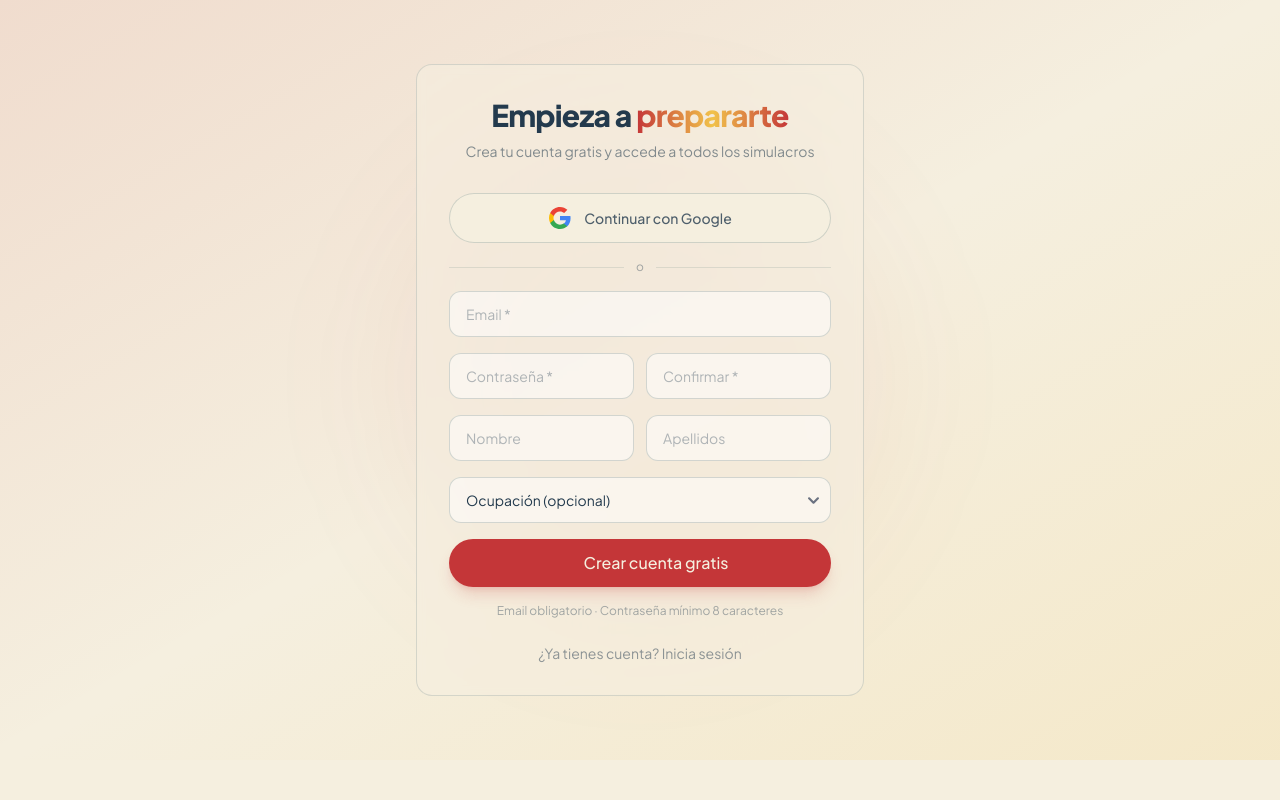
it: Register component › shows error when password is empty
The width and height of the screenshot is (1280, 800).
Type "user@example.com" into the field with placeholder "Email *" at coordinates (640, 314), box [449,291,831,337]
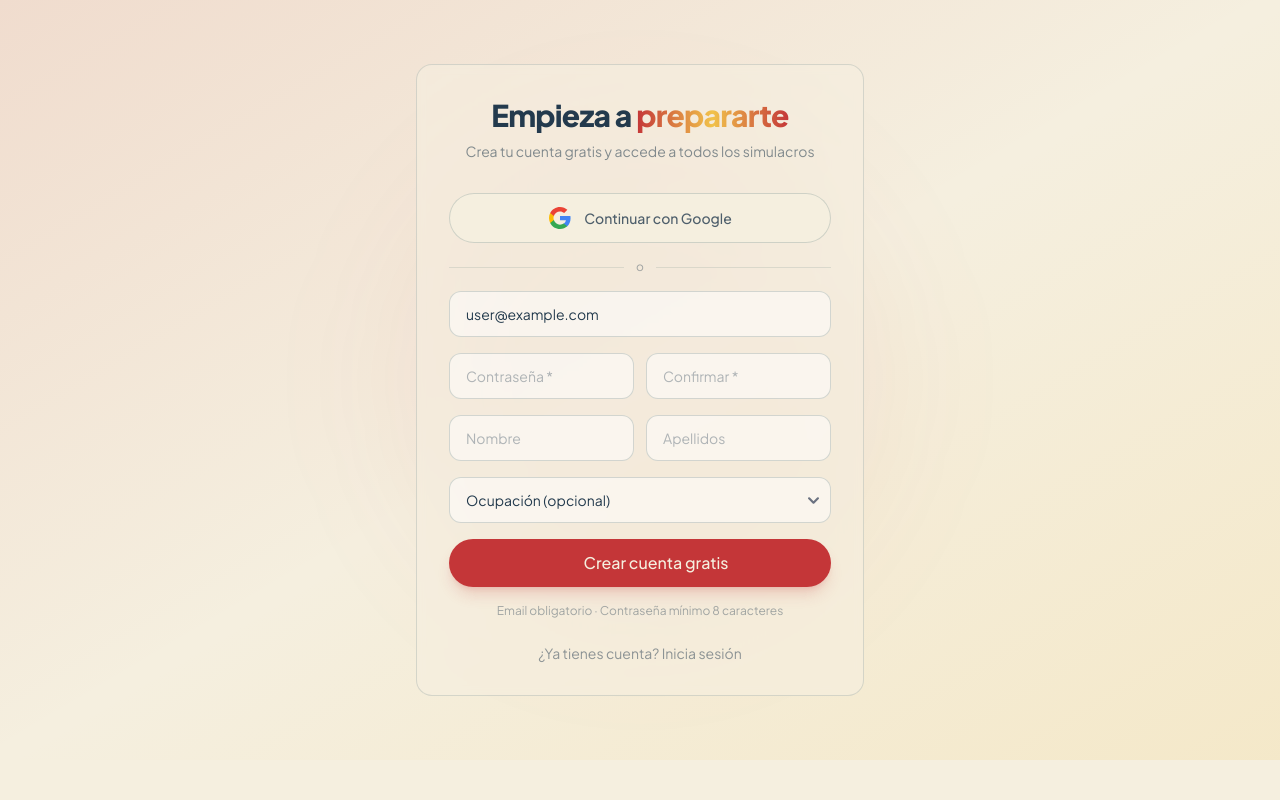
Click the button "Crear cuenta gratis" at coordinates (640, 563), box [449,539,831,587]
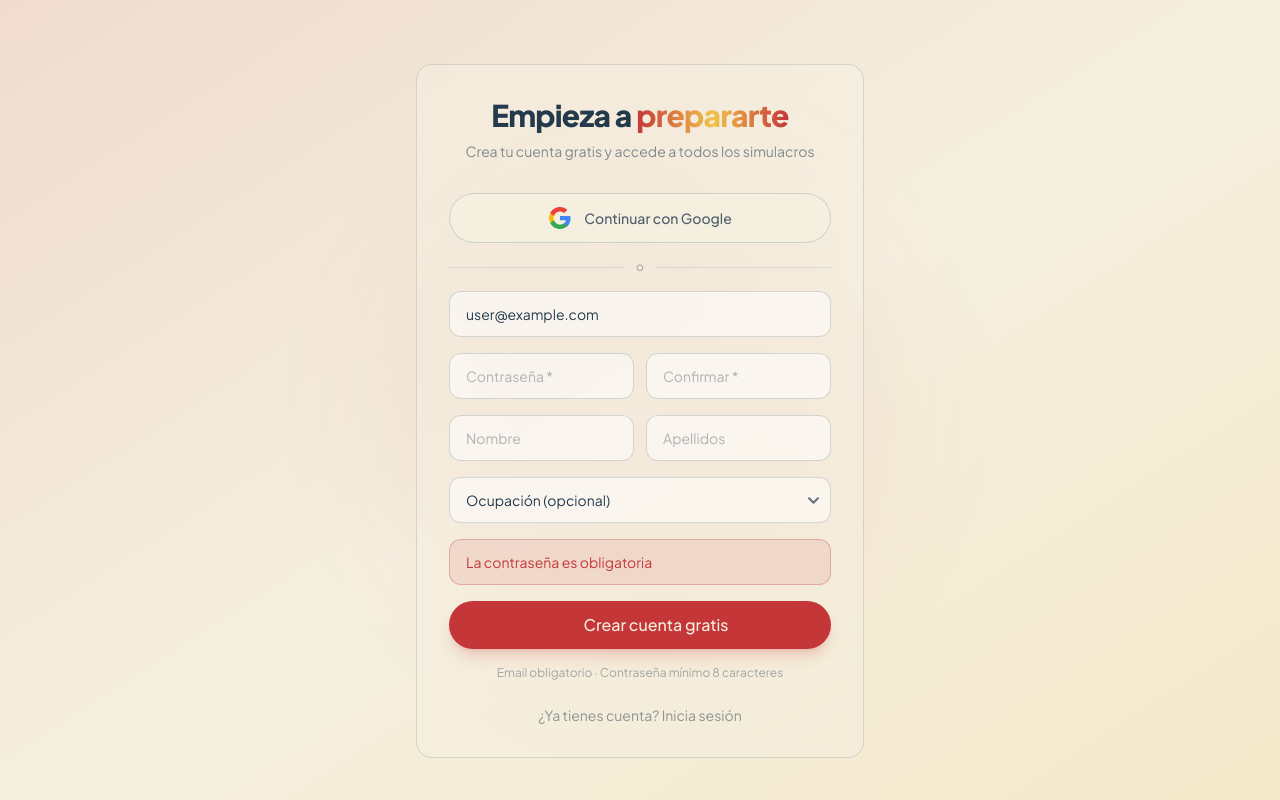
Check: the text "La contraseña es obligatoria" is shown, box [449,539,831,585]
